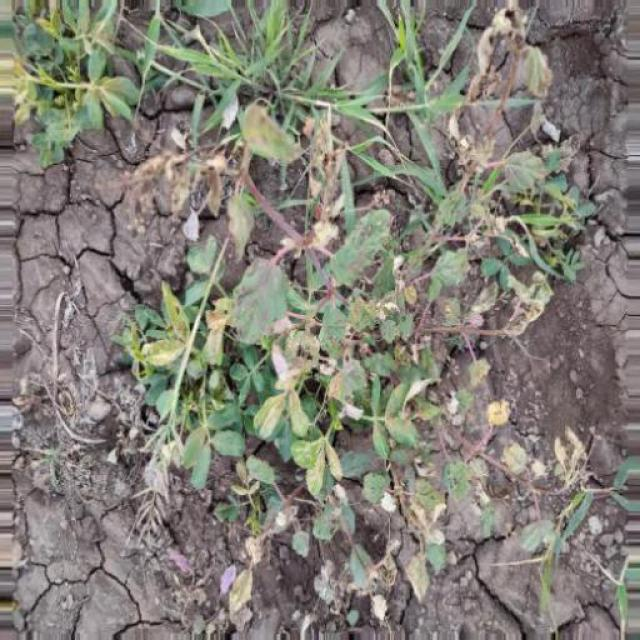weed: (75, 230, 590, 588), (4, 1, 518, 168)
